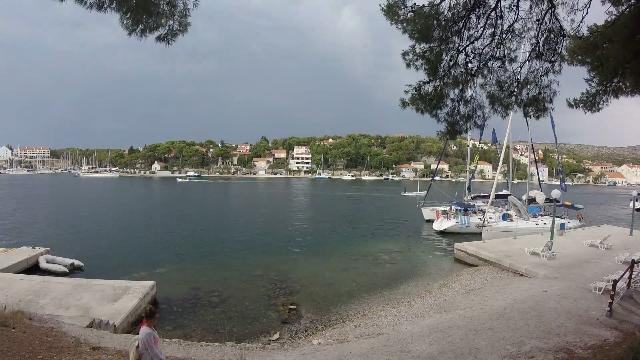Sailboat: (398, 184, 434, 202)
speedboat: (171, 175, 195, 187)
